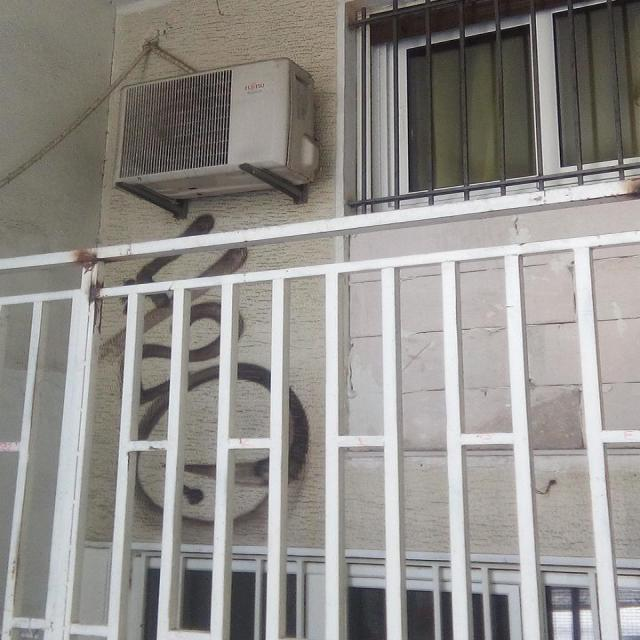nonspitting: (103, 212, 309, 528)
